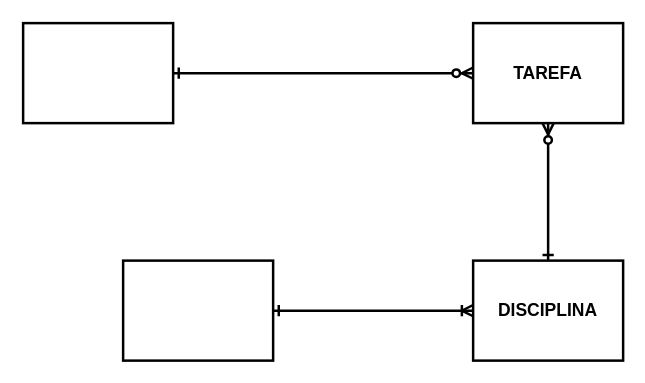
This 645x383 diagram has some shape labels left out. The centre of each missing label's shape, as x and y in pixels:
"ALUNO" goes at point (97, 72).
"PROFESSOR" goes at point (197, 310).
